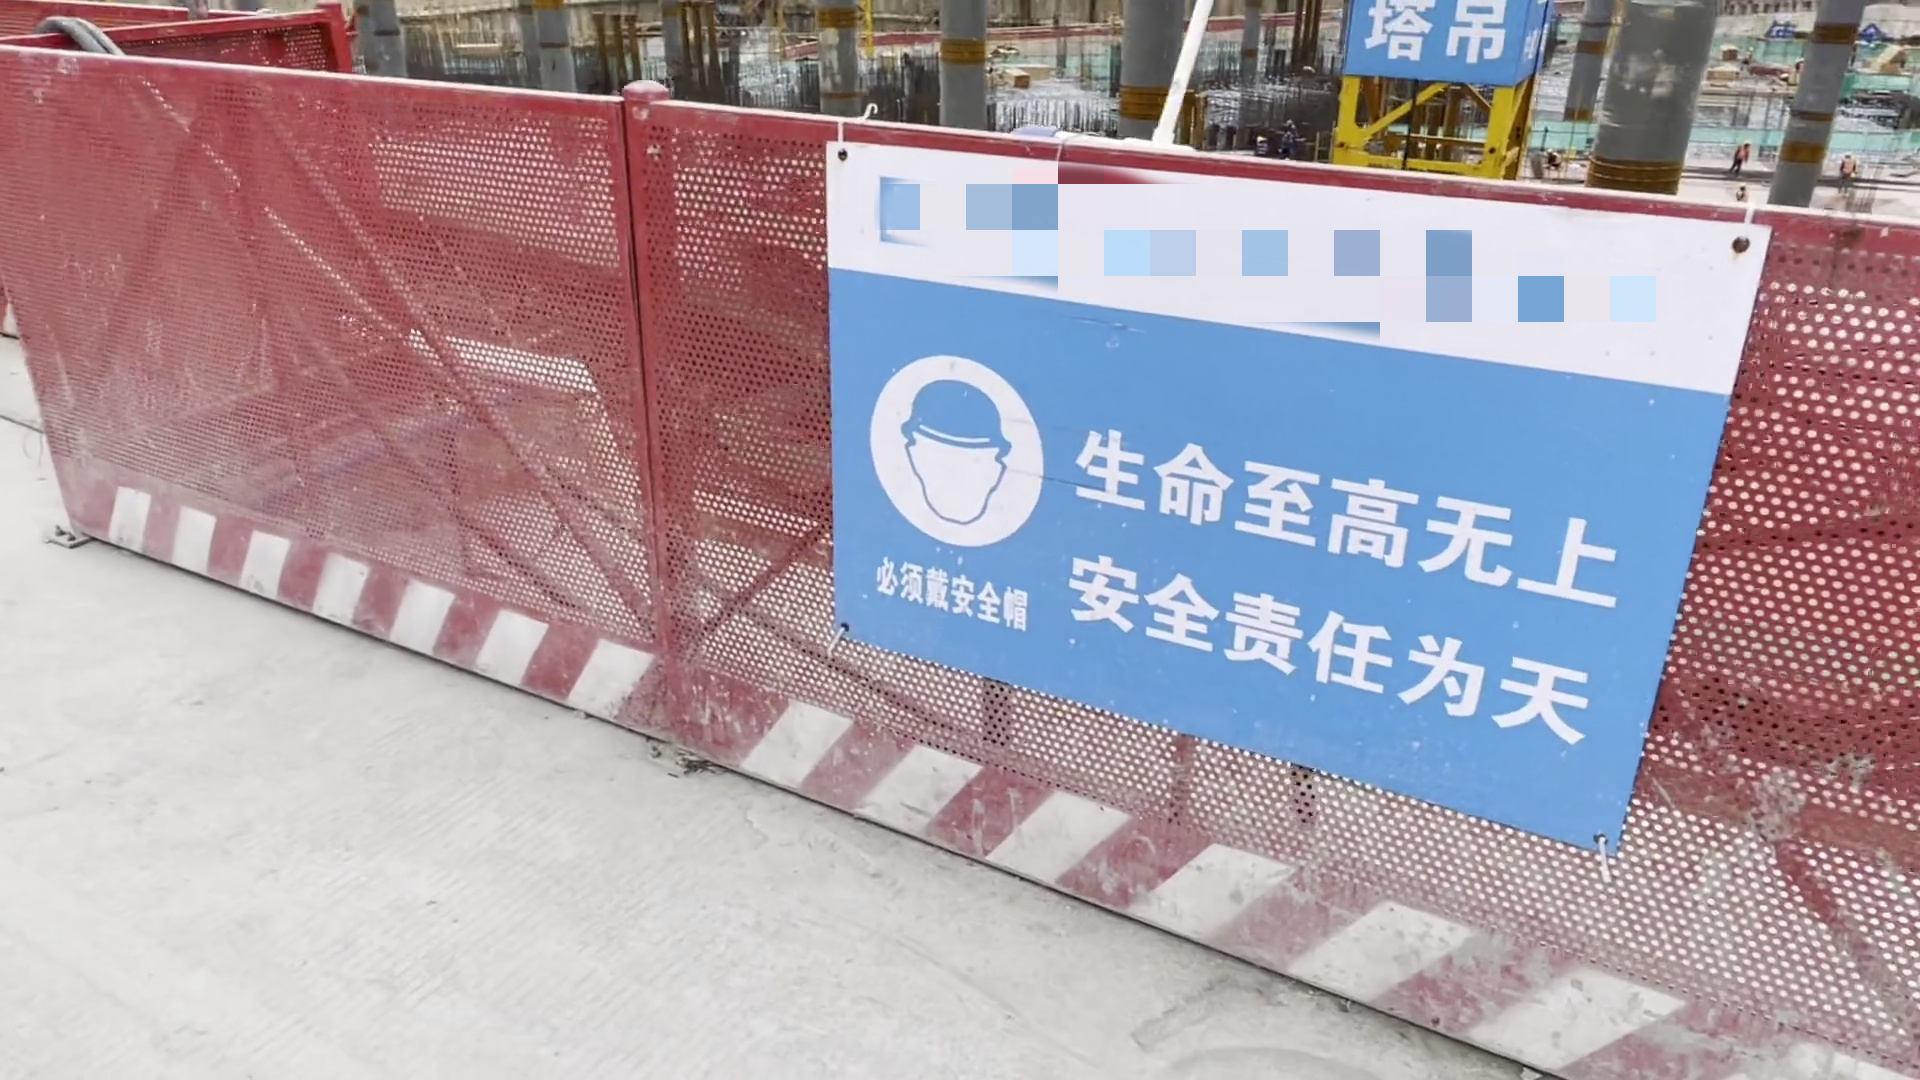fence: (62, 142, 1920, 920)
slogan: (819, 187, 1768, 844), (1348, 1, 1516, 84)
